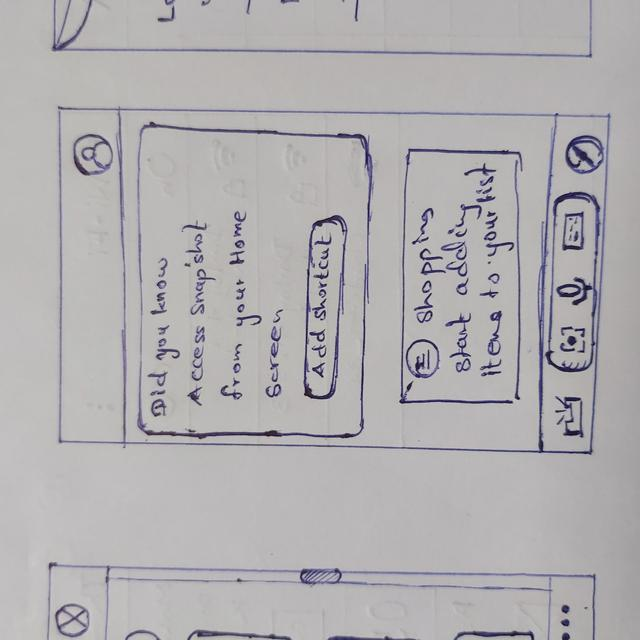ActionButton: (57, 132, 124, 182)
AppBar: (53, 105, 128, 443)
BottomNavBar: (540, 114, 597, 456)
BottomNavItems: (540, 392, 594, 448), (551, 132, 610, 183), (547, 209, 605, 260), (543, 270, 602, 312), (541, 325, 598, 366)
Button: (304, 216, 346, 397)
CardView: (133, 122, 369, 437), (398, 146, 523, 407)
Icon: (72, 136, 113, 175), (565, 136, 605, 175), (407, 339, 440, 379), (557, 397, 584, 440), (557, 275, 593, 304), (563, 212, 586, 251), (559, 327, 587, 355)
MainLayout: (54, 105, 608, 459)
TextView: (470, 167, 505, 376), (452, 206, 473, 372), (188, 223, 203, 404), (229, 210, 243, 401), (416, 209, 436, 325), (156, 260, 168, 416), (266, 310, 285, 397)
